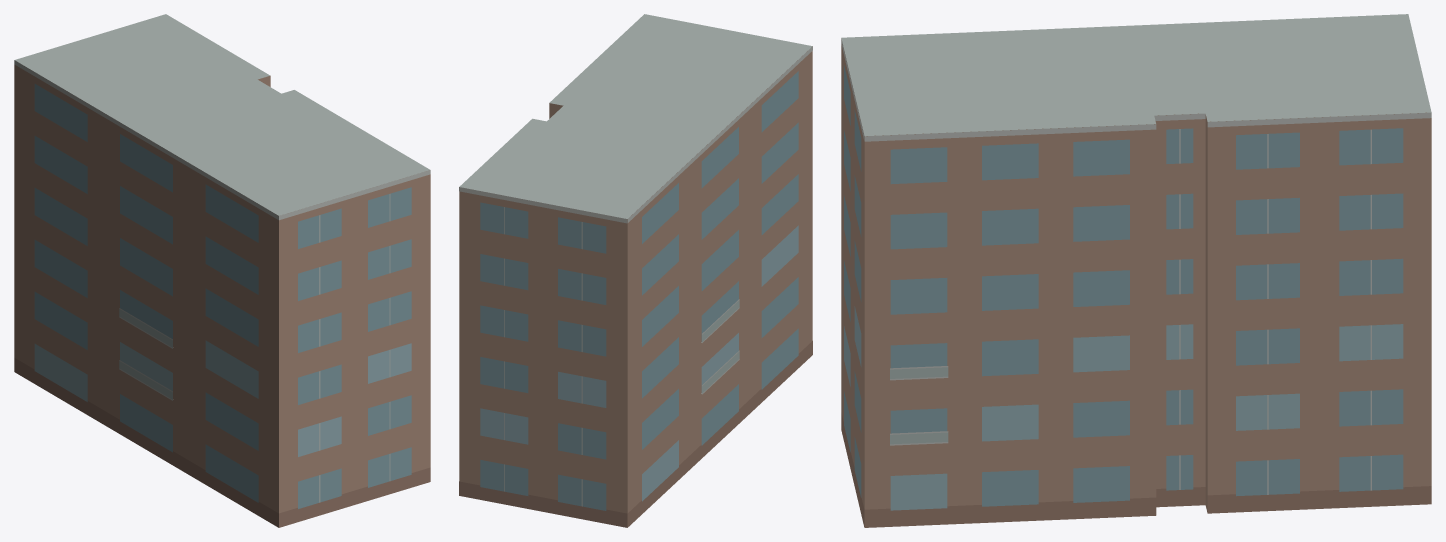
File: survey-upis-32926810.glb
The picture shows the model from 3 angles, left to right: view 1: azimuth 30°, elevation 25°; view 2: azimuth 150°, elevation 25°; view 3: azimuth 270°, elevation 25°; orthographic projection. The views are drawn at different scales.
Parts seen in each view (by area): view 1: survey-upis-32926810.tmp; view 2: survey-upis-32926810.tmp; view 3: survey-upis-32926810.tmp.
Part boxes in pixels (x1,y1,x2,y2): survey-upis-32926810.tmp: (14,14,430,527); survey-upis-32926810.tmp: (459,14,812,527); survey-upis-32926810.tmp: (841,14,1431,527).
Bounding box in the file's own units: 11.52 × 17.2 × 23.5.
